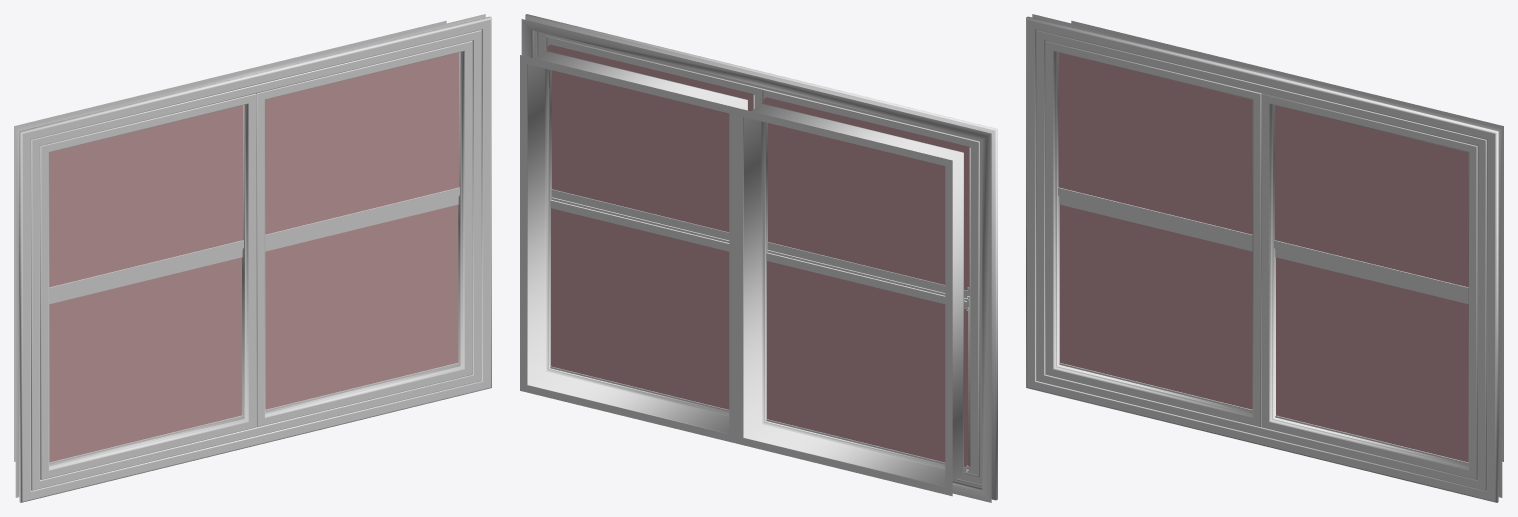
The model's file is WindowDoubleSlider.fbx.
The picture shows the model from 3 angles, left to right: view 1: azimuth 30°, elevation 25°; view 2: azimuth 150°, elevation 25°; view 3: azimuth 330°, elevation 25°; orthographic projection.
Parts seen in each view (by area): view 1: Window_LOD0, Slider.001, Slider; view 2: Window_LOD0, Slider, Slider.001; view 3: Window_LOD0, Slider, Slider.001.
Boxes of the visible parts, x1,y1,x2,y2 form: Window_LOD0: (14, 14, 491, 502); Slider.001: (265, 197, 458, 411); Slider: (49, 249, 242, 464); Window_LOD0: (520, 14, 997, 502); Slider: (766, 250, 968, 472); Slider.001: (550, 197, 729, 411); Window_LOD0: (1026, 14, 1503, 502); Slider: (1059, 197, 1252, 411); Slider.001: (1275, 249, 1468, 464).
Size of what is drawn, in the model's own units: 504 by 379 by 49.03.
